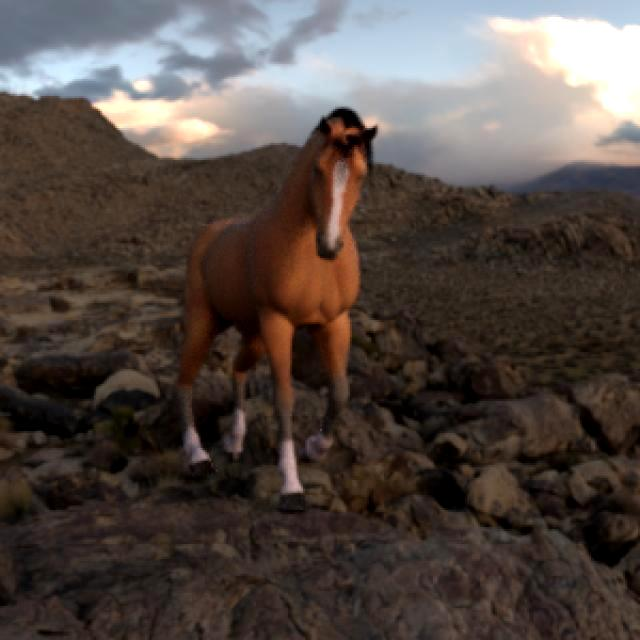horse: (176, 108, 376, 511)
